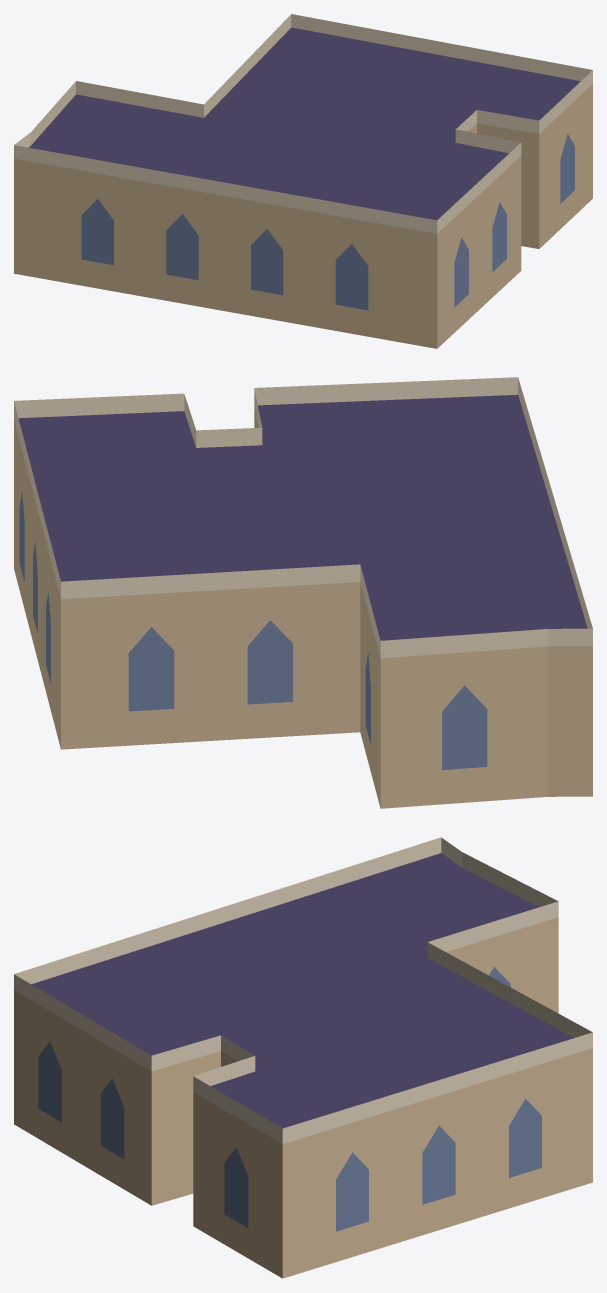
The model's file is b-055-day.glb.
3 views of the same model, one above another, from view 1: azimuth 30°, elevation 25°; view 2: azimuth 150°, elevation 25°; view 3: azimuth 270°, elevation 25° (orthographic). The views are drawn at different scales.
Parts seen in each view (by area): view 1: campus/b-055-day-0; view 2: campus/b-055-day-0; view 3: campus/b-055-day-0.
Boxes of the visible parts, bbox=[...] form: campus/b-055-day-0: bbox=[14, 14, 592, 348]; campus/b-055-day-0: bbox=[14, 377, 592, 808]; campus/b-055-day-0: bbox=[14, 837, 592, 1278].
Size of the model in its own units: 21.84 by 5.25 by 18.35.
